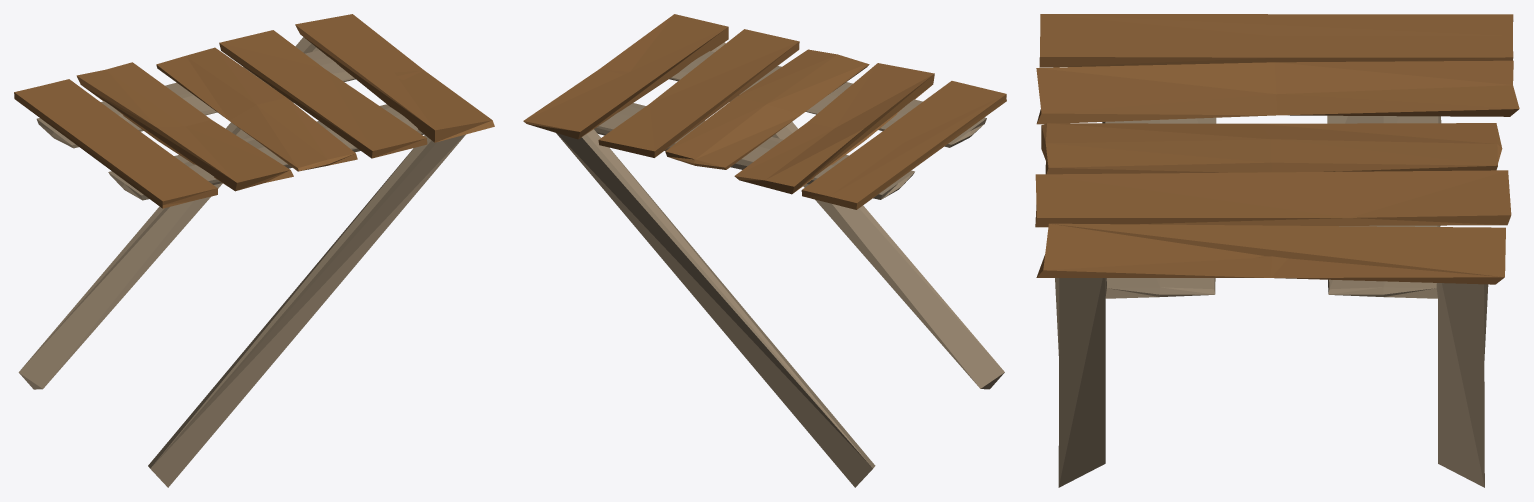
The model's file is Footbridge.fbx.
3 renders of one model, left to right at view 1: azimuth 30°, elevation 25°; view 2: azimuth 150°, elevation 25°; view 3: azimuth 270°, elevation 25°, orthographic. The views are drawn at different scales.
Parts seen in each view (by area): view 1: Footbridge; view 2: Footbridge; view 3: Footbridge.
Part boxes in pixels (x1,y1,x2,y2): Footbridge: (14,14,494,487); Footbridge: (523,14,1006,487); Footbridge: (1035,14,1519,487).
Bounding box in the file's own units: 273 × 226 × 211.
